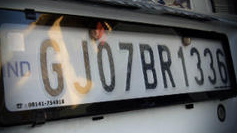0: (94, 37, 118, 95)
1: (177, 44, 191, 89)
3: (188, 45, 206, 87), (202, 43, 218, 87)
6: (215, 46, 229, 86)
7: (116, 40, 138, 93)
B: (136, 40, 158, 92)
G: (37, 38, 68, 100)
J: (70, 38, 95, 96)
R: (155, 42, 177, 90)
